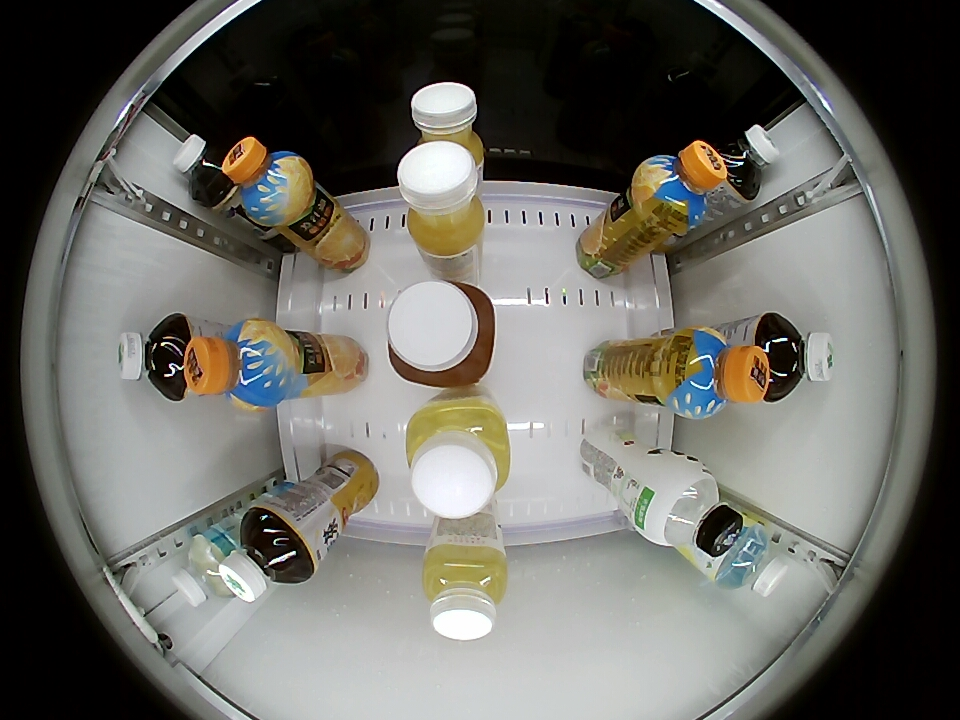chapai: (386, 279, 497, 389)
chapai2: (404, 397, 512, 519), (423, 543, 507, 641)
damaicha: (219, 506, 315, 602), (758, 313, 836, 400), (116, 312, 191, 400)
guolicheng: (184, 318, 295, 411), (667, 326, 769, 419), (634, 141, 726, 233), (222, 137, 312, 225)
nfc: (396, 142, 487, 256), (409, 82, 485, 167)
qinningshui: (709, 522, 788, 597), (172, 531, 236, 606)
wulongcha: (710, 124, 779, 201), (173, 134, 234, 205)
yuanqishui: (634, 456, 745, 559)
